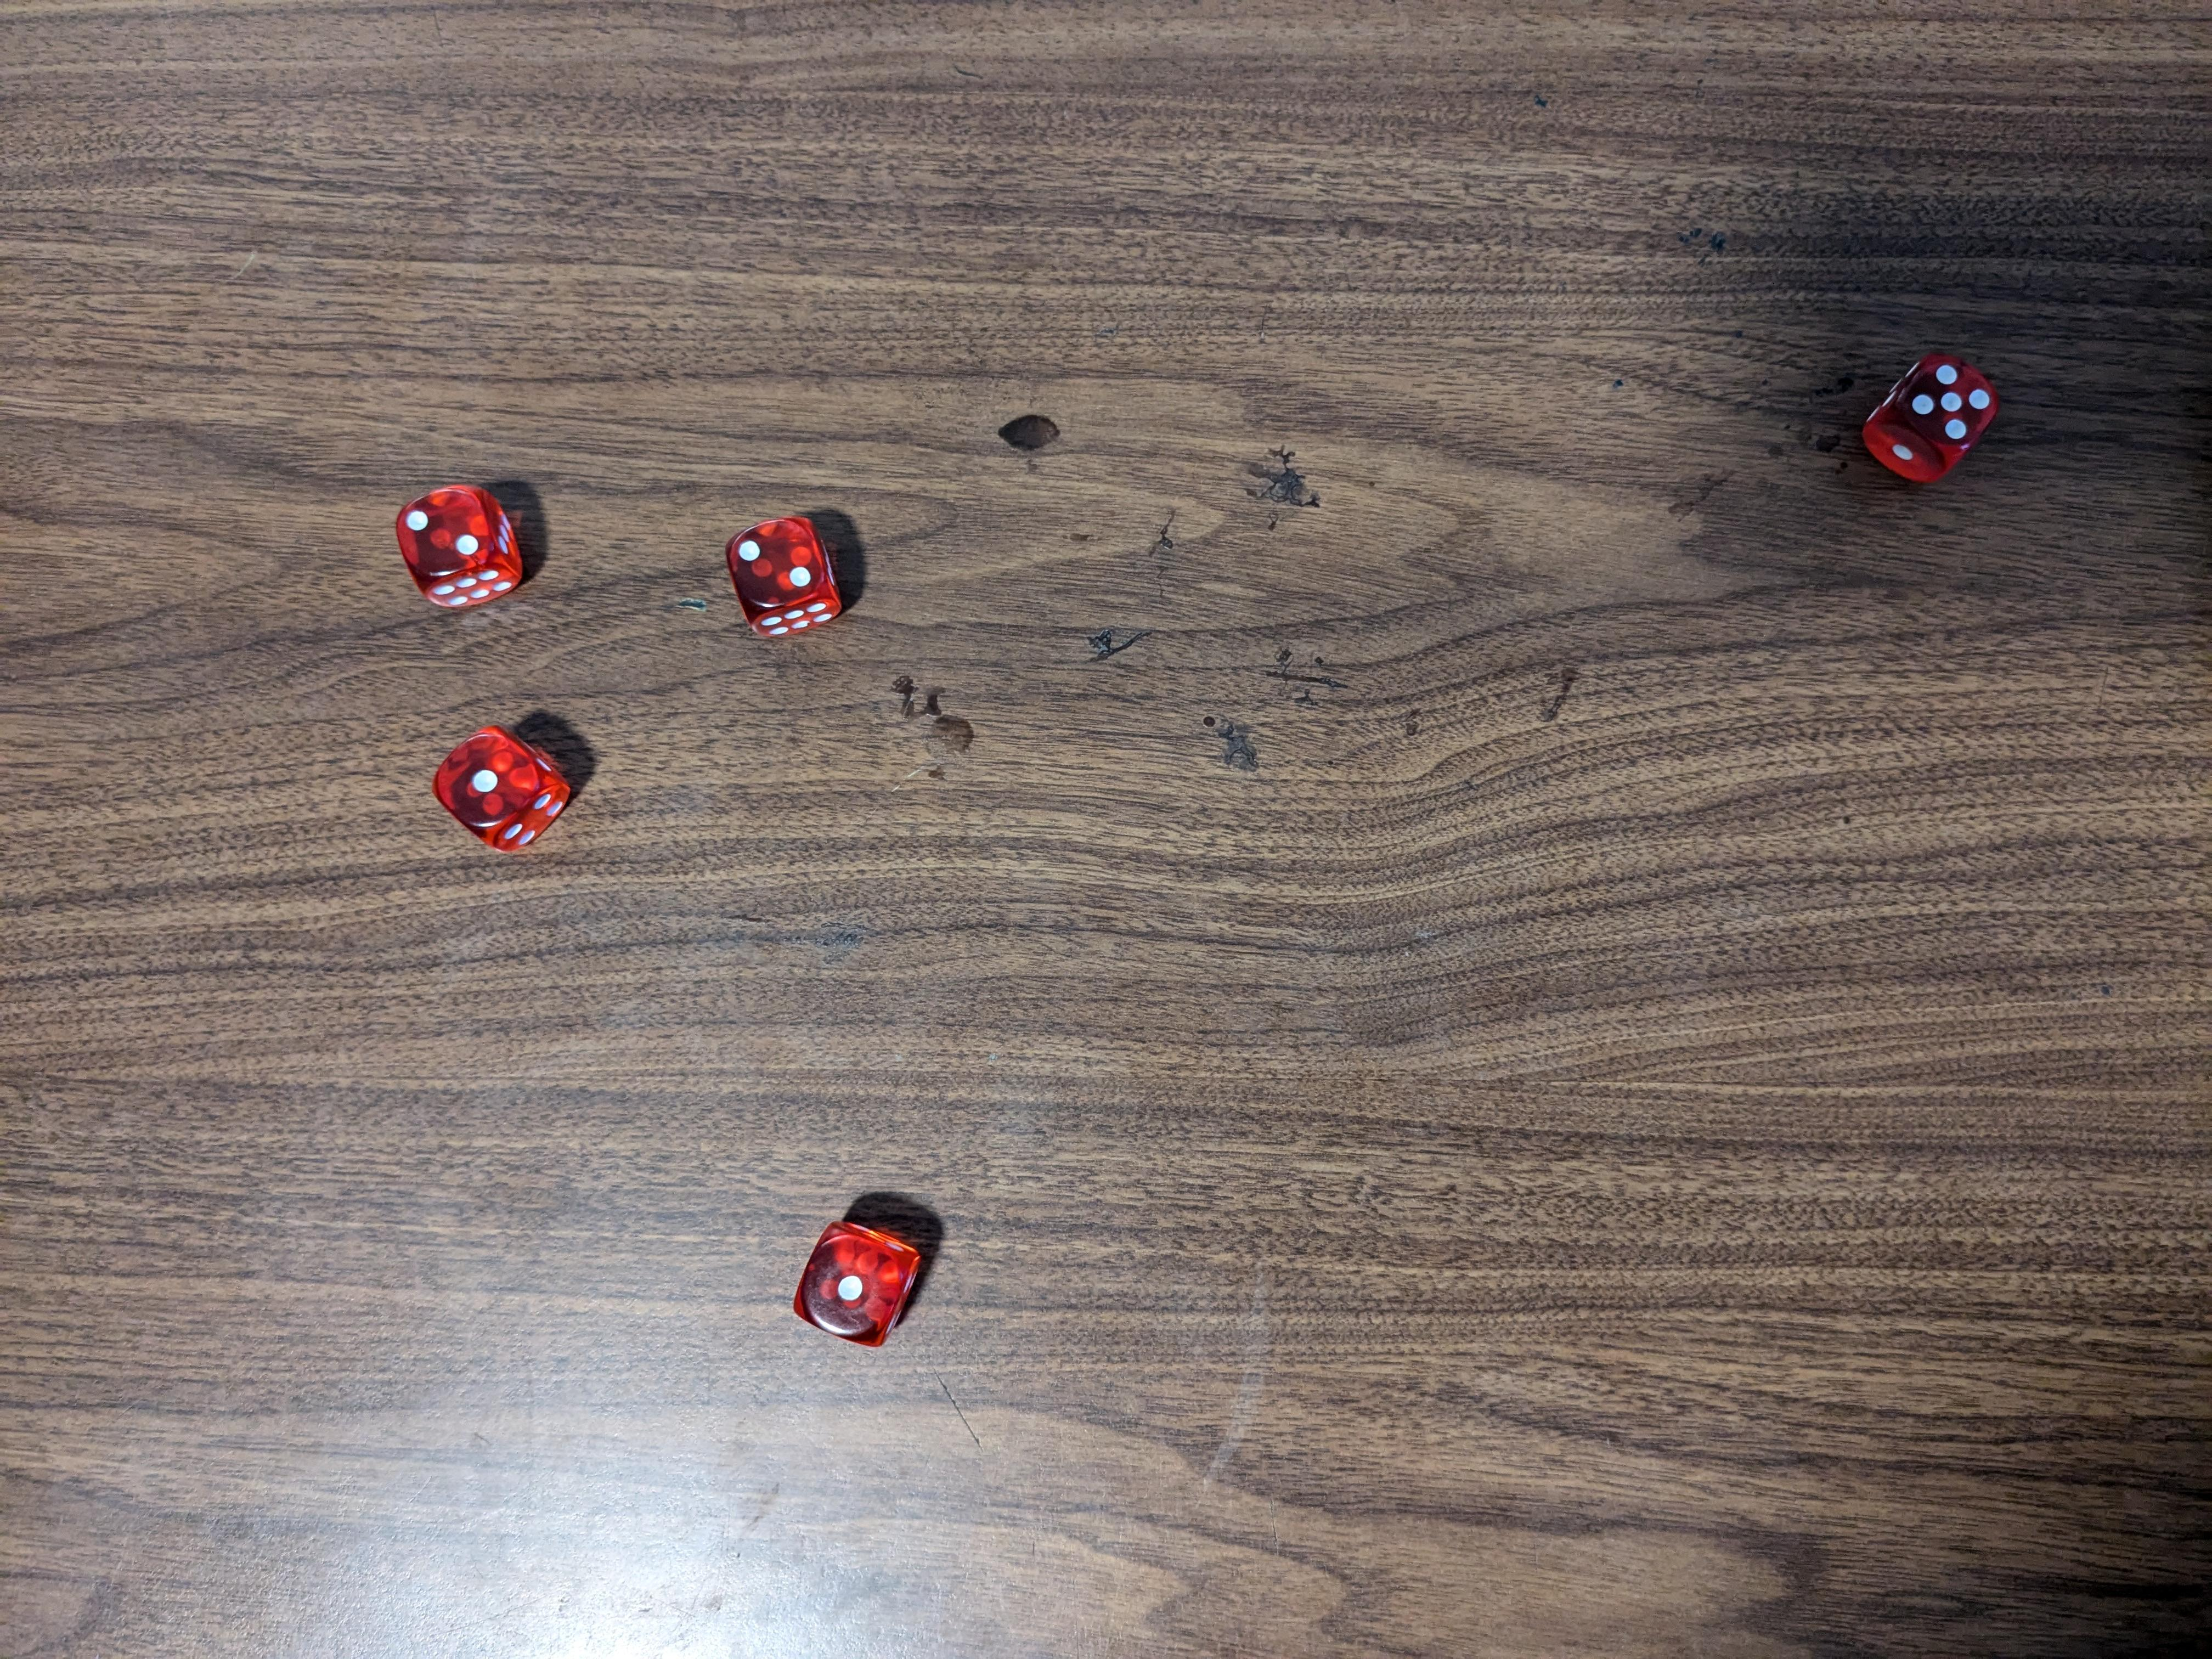five: (1865, 347, 2003, 481)
one: (430, 720, 577, 863), (789, 1223, 925, 1356)
two: (721, 514, 850, 647), (392, 483, 523, 608)
